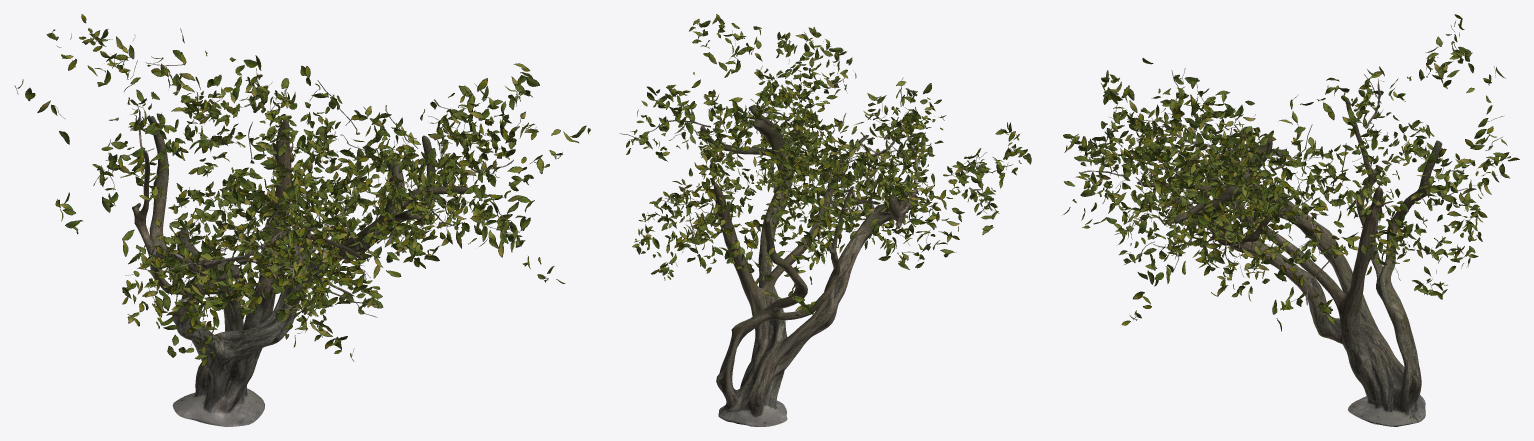
File: island_tree_02_lite.glb
3 renders of one model, left to right at view 1: azimuth 30°, elevation 25°; view 2: azimuth 150°, elevation 25°; view 3: azimuth 270°, elevation 25°, orthographic. The views are drawn at different scales.
Parts seen in each view (by area): view 1: island_tree_02_LOD0, island_tree_02_LOD0_991e35, island_tree_02_LOD0_a16260; view 2: island_tree_02_LOD0, island_tree_02_LOD0_991e35, island_tree_02_LOD0_a16260; view 3: island_tree_02_LOD0, island_tree_02_LOD0_991e35, island_tree_02_LOD0_a16260.
Boxes of the visible parts, x1,y1,x2,y2 form: island_tree_02_LOD0: [17, 14, 590, 366]; island_tree_02_LOD0_991e35: [132, 116, 468, 426]; island_tree_02_LOD0_a16260: [14, 33, 547, 356]; island_tree_02_LOD0: [626, 14, 1031, 314]; island_tree_02_LOD0_991e35: [700, 105, 911, 426]; island_tree_02_LOD0_a16260: [619, 30, 1012, 321]; island_tree_02_LOD0: [1063, 14, 1519, 331]; island_tree_02_LOD0_991e35: [1137, 100, 1442, 426]; island_tree_02_LOD0_a16260: [1080, 25, 1504, 319].
Size of the model in its own units: 3.91 by 3.41 by 4.1.
3 materials, 3 textured.
